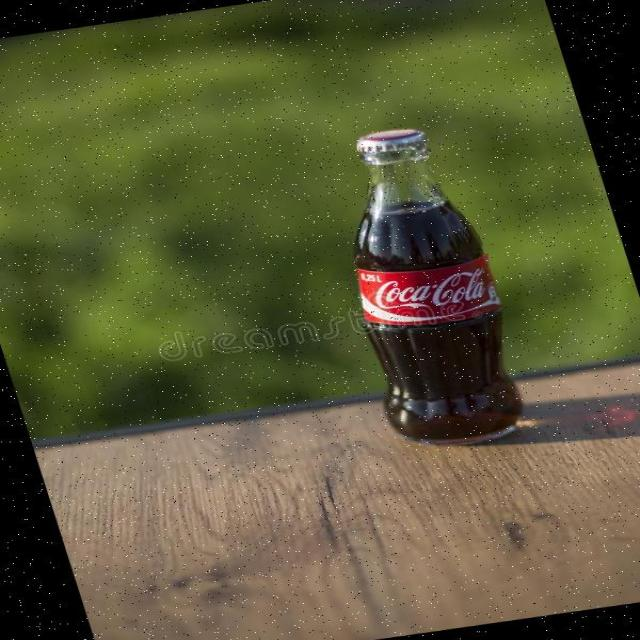coca-cola: (290, 109, 549, 461)
